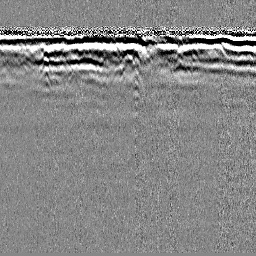cavity: (117, 53, 138, 75)
